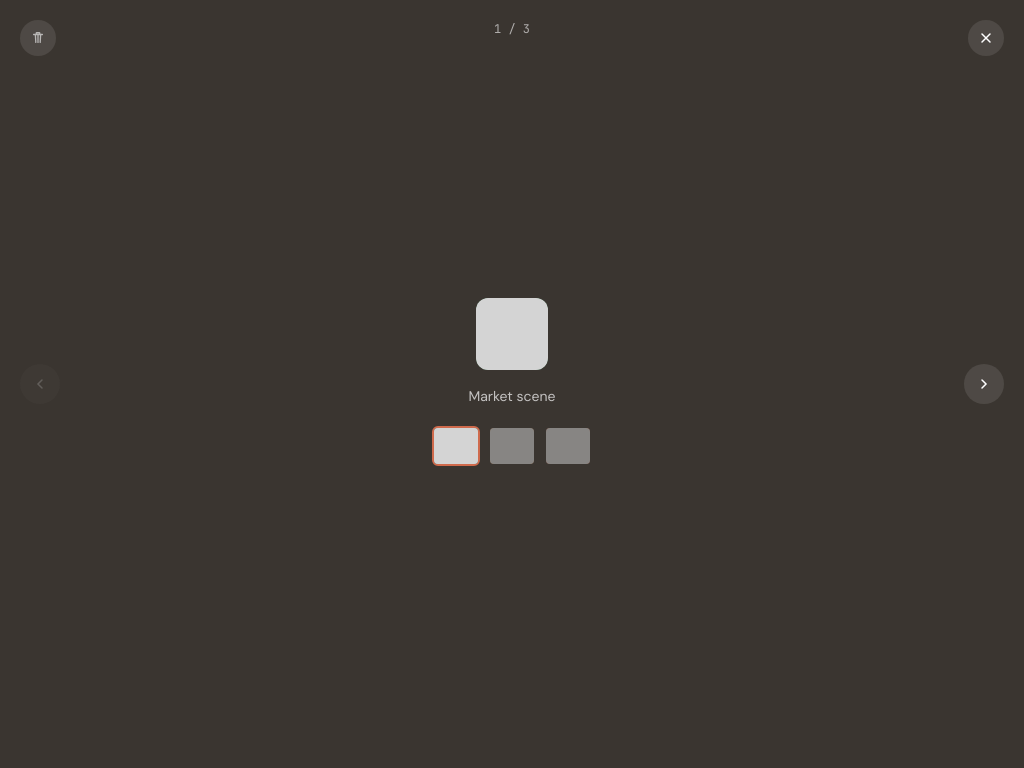
Test case: PhotoLightbox › shows delete confirmation when trash button is clicked
The width and height of the screenshot is (1024, 768).
Click the button named "Delete photo". click: (38, 38)
box: [20,20,56,56]
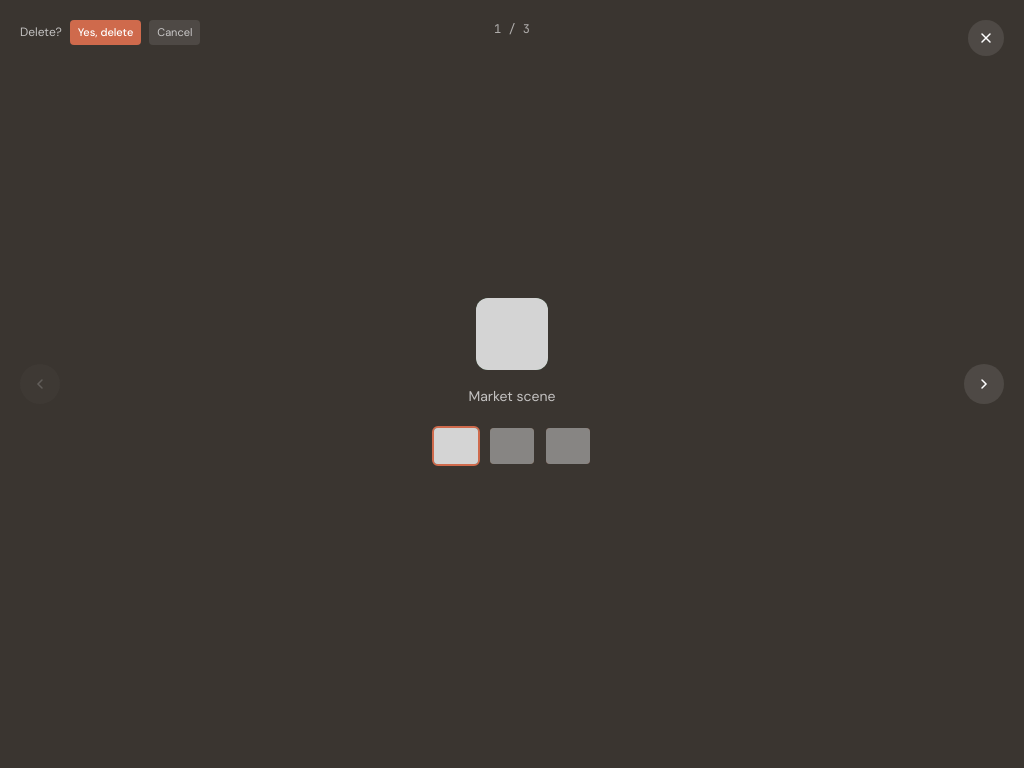
Result: the text "Delete?" is shown at [20,23,62,41]
Result: the button "Yes, delete" is shown at [70,20,141,44]
Result: the button "Cancel" is shown at [149,20,200,44]
